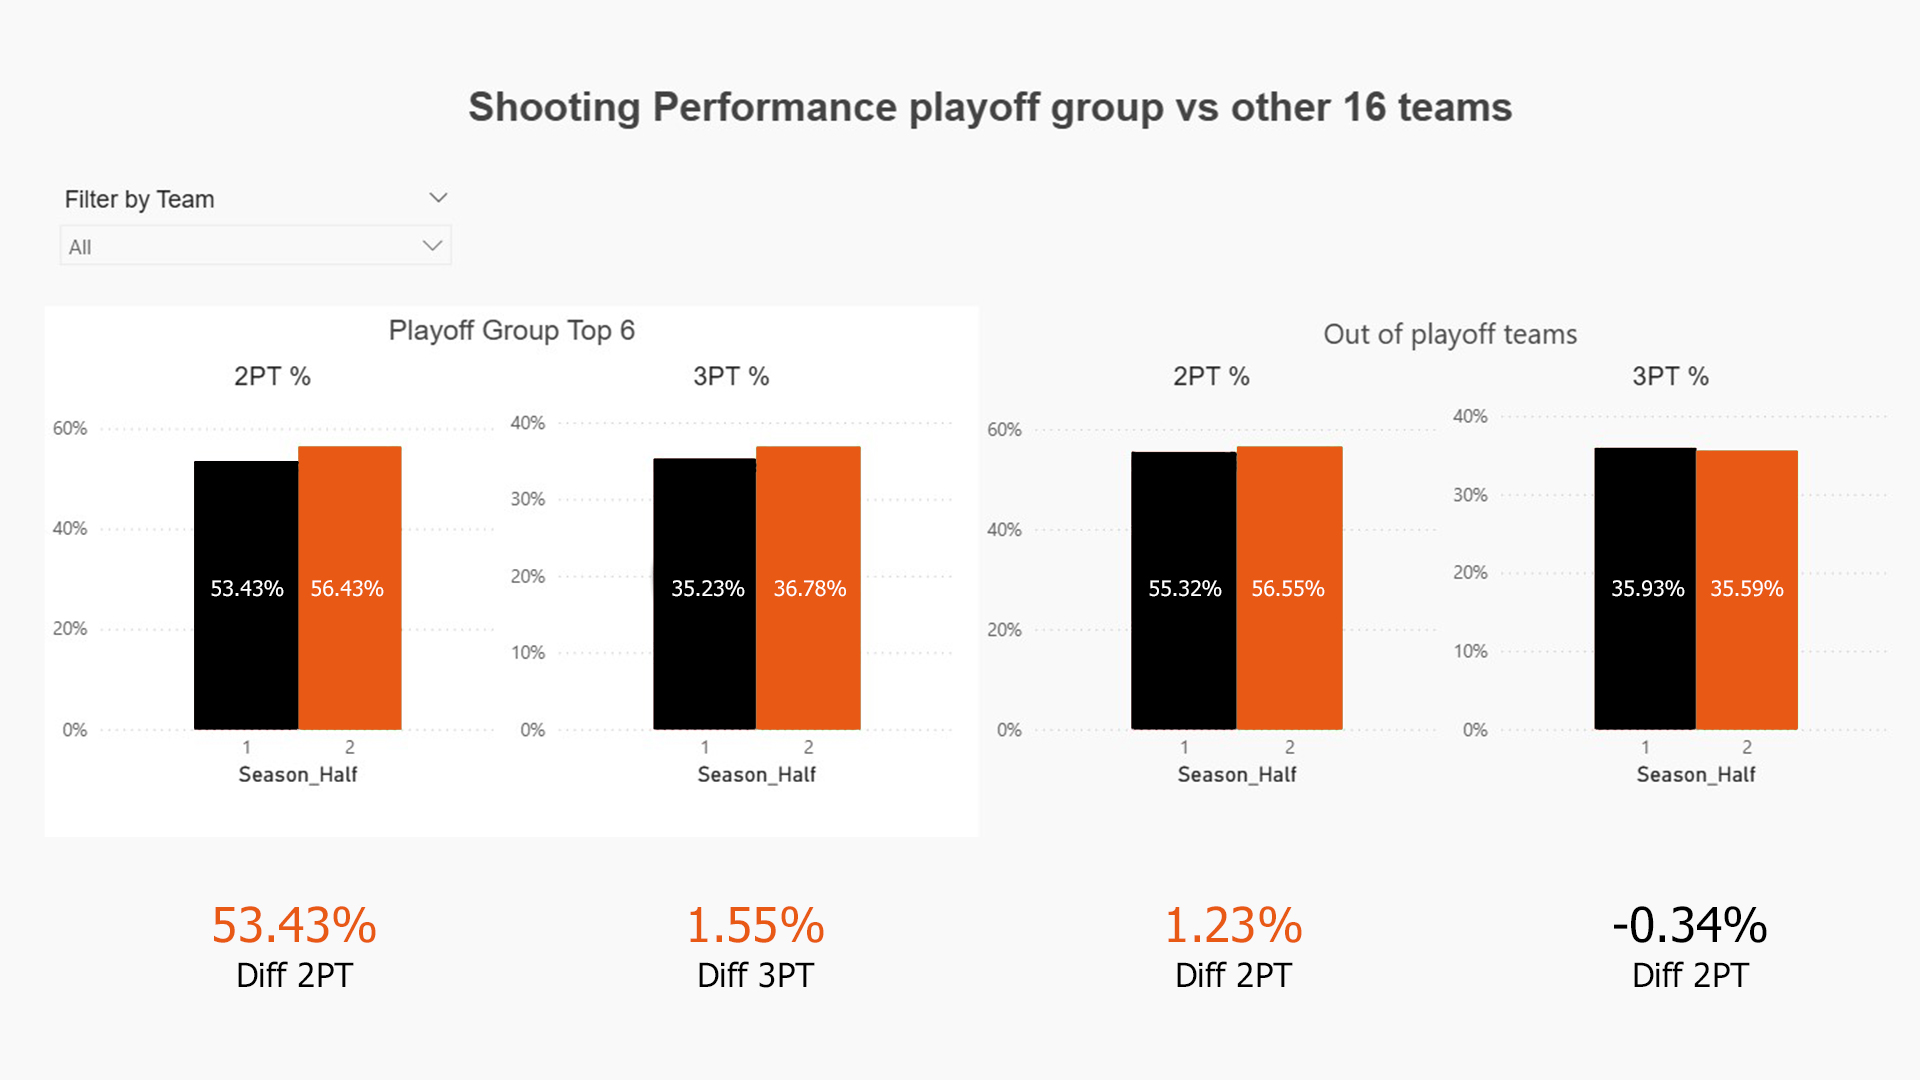

Layout of this report page (visuals, bound fields, positions):
{"tool":"powerbi","page":{"name":"Shooting Performance","canvas":[1280,720],"ordinal":2},"visuals":[{"type":"shape","box":[30.2,599.1,1249.8,120.9],"z":0},{"type":"textbox","box":[652.5,235.4,627.5,364.3],"z":1000},{"type":"textbox","box":[30.4,235.4,622.1,364.3],"z":2000},{"type":"clusteredColumnChart","title":"2PT %","fields":{"Category":["Matches.Season_Half"],"Y":["Matches_Stat.2PT %"],"Series":["Matches.Season_Half"]},"box":[30.4,271.8,304.3,288.1],"z":3000},{"type":"clusteredColumnChart","title":"3PT %","fields":{"Category":["Matches.Season_Half"],"Series":["Matches.Season_Half"],"Y":["Matches_Stat.3PT %"]},"box":[334.7,271.8,305.3,288.1],"z":4000},{"type":"clusteredColumnChart","title":"2PT %","fields":{"Category":["Matches.Season_Half"],"Y":["Matches_Stat.2PT %"],"Series":["Matches.Season_Half"]},"box":[652.2,271.8,310.4,288.1],"z":5000},{"type":"clusteredColumnChart","title":"3PT %","fields":{"Category":["Matches.Season_Half"],"Series":["Matches.Season_Half"],"Y":["Matches_Stat.3PT %"]},"box":[962.5,271.8,301.2,288.1],"z":6000},{"type":"shape","box":[0,0,1280,60],"z":7000},{"type":"textbox","box":[39.8,86.3,1240.2,47.3],"z":8000},{"type":"image","box":[29.9,12.5,158.5,34],"z":9000},{"type":"cardVisual","fields":{"Data":["Matches.Diff 2PT"]},"box":[30.6,599.2,322.8,120.8],"z":10000},{"type":"cardVisual","fields":{"Data":["Matches.Diff 2PT"]},"box":[682.7,599.1,283.6,120.9],"z":11000},{"type":"cardVisual","fields":{"Data":["Matches.Diff 3PT"]},"box":[965.8,599.2,314.5,120.8],"z":12000},{"type":"cardVisual","fields":{"Data":["Matches.Diff 3PT"]},"box":[353.4,599.2,298.8,120.8],"z":13000},{"type":"slicer","fields":{"Values":["Matches_Stat.Slicer_Group","Matches_Stat.Slicer_Team"]},"box":[30.4,151.1,281,61.9],"z":14000}]}

Visuals, with their boxes in screenshot pixels (x1, y1, x2, y2), scaled from the page's 1280x720 canvas onto the 1920x1080 screenshot:
shape: x1=45 y1=899 x2=1919 y2=1079
textbox: x1=979 y1=353 x2=1919 y2=900
textbox: x1=46 y1=353 x2=979 y2=900
"2PT %" clusteredColumnChart: x1=46 y1=408 x2=502 y2=840
"3PT %" clusteredColumnChart: x1=502 y1=408 x2=960 y2=840
"2PT %" clusteredColumnChart: x1=978 y1=408 x2=1444 y2=840
"3PT %" clusteredColumnChart: x1=1444 y1=408 x2=1896 y2=840
shape: x1=0 y1=0 x2=1919 y2=90
textbox: x1=60 y1=129 x2=1919 y2=200
image: x1=45 y1=19 x2=283 y2=70
cardVisual - Matches.Diff 2PT: x1=46 y1=899 x2=530 y2=1079
cardVisual - Matches.Diff 2PT: x1=1024 y1=899 x2=1449 y2=1079
cardVisual - Matches.Diff 3PT: x1=1449 y1=899 x2=1919 y2=1079
cardVisual - Matches.Diff 3PT: x1=530 y1=899 x2=978 y2=1079
slicer - Matches_Stat.Slicer_Group x Matches_Stat.Slicer_Team: x1=46 y1=227 x2=467 y2=320
